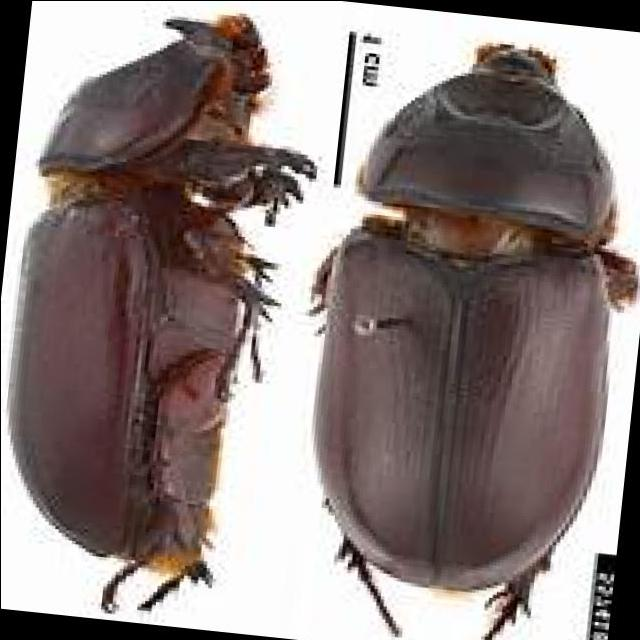Red-palm-weevil: (310, 4, 606, 634)
Rhino-beetle: (15, 4, 293, 628)
